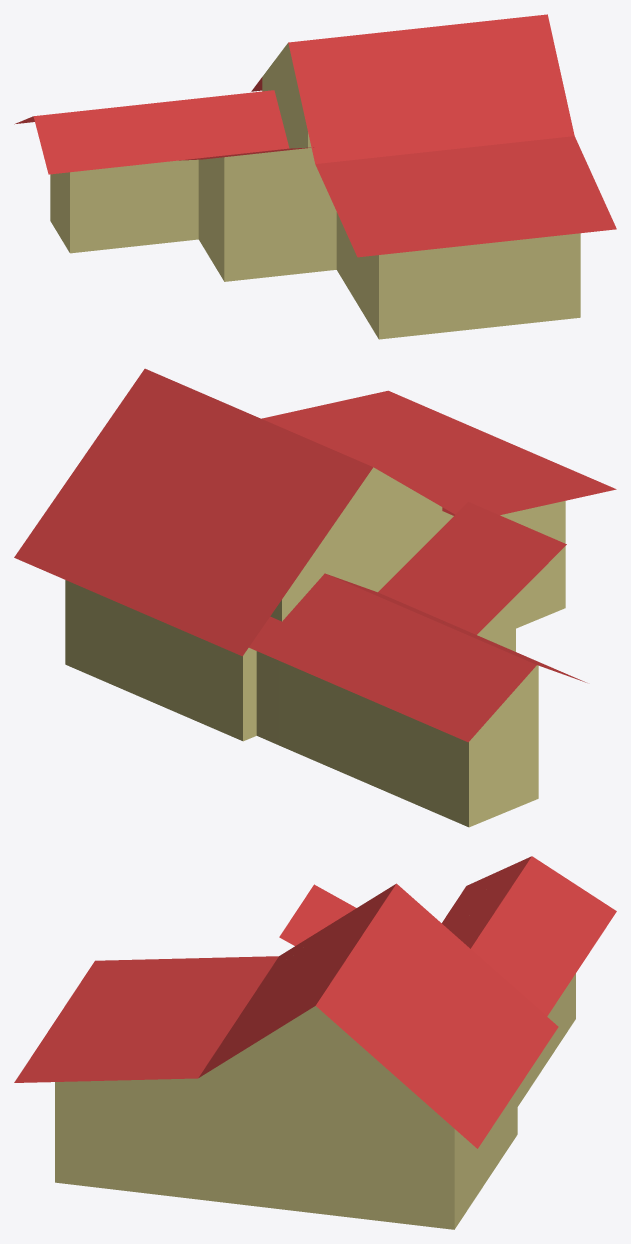
3 views of the same model, one above another, from view 1: azimuth 30°, elevation 25°; view 2: azimuth 150°, elevation 25°; view 3: azimuth 270°, elevation 25° (orthographic). The views are drawn at different scales.
Bounding box in the file's own units: 36.26 × 36.14 × 14.7.
